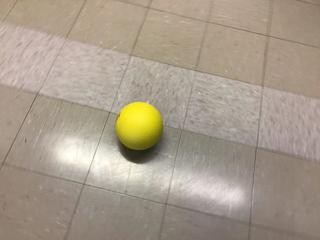power_cell: (115, 100, 167, 153)
